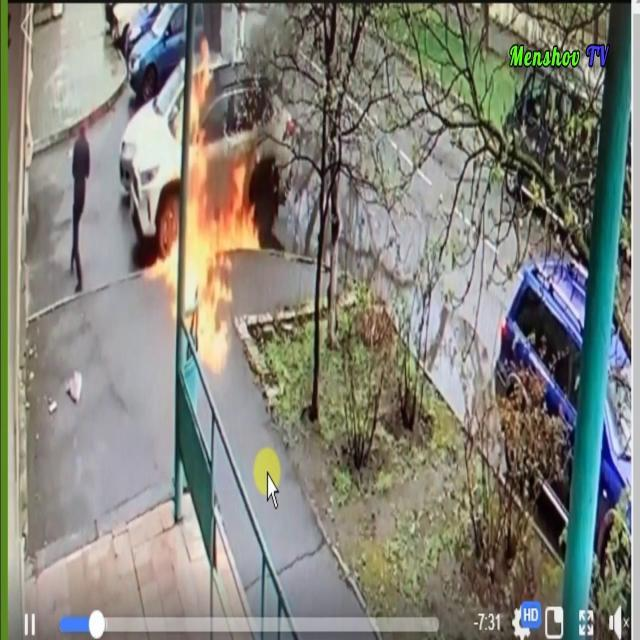Fire: (156, 35, 260, 351)
